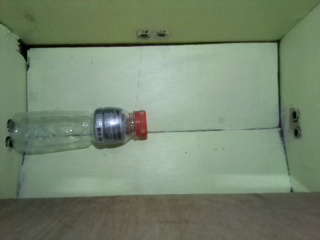bottle: (10, 106, 151, 154)
